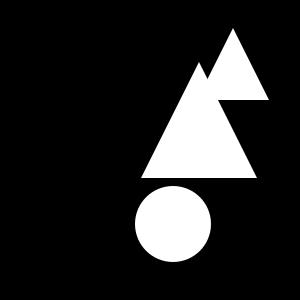rectangle: (135, 186, 211, 262), (193, 132, 212, 150)
triangle: (141, 62, 257, 178), (197, 28, 269, 100)
